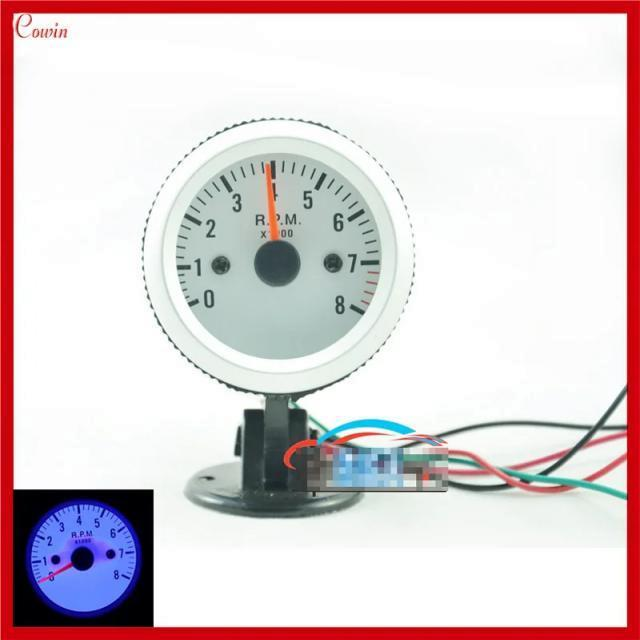Needle_Tip: (236, 146, 299, 195)
Needle_base: (243, 227, 313, 294)
max_value: (321, 289, 355, 326)
min_value: (196, 284, 225, 323)
